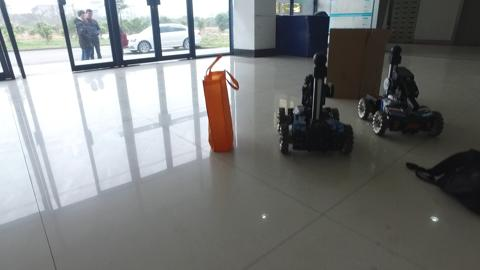bag: (202, 54, 237, 151)
chariot: (272, 55, 355, 156), (360, 46, 447, 137)
